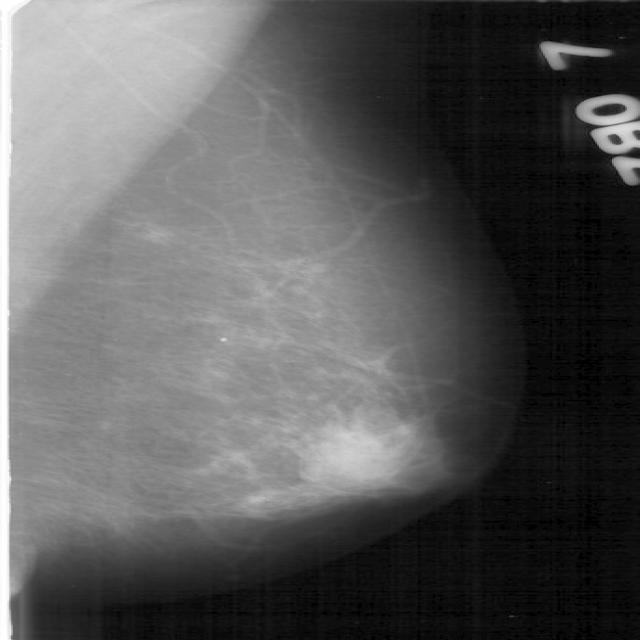tumour: (136, 223, 172, 244)
